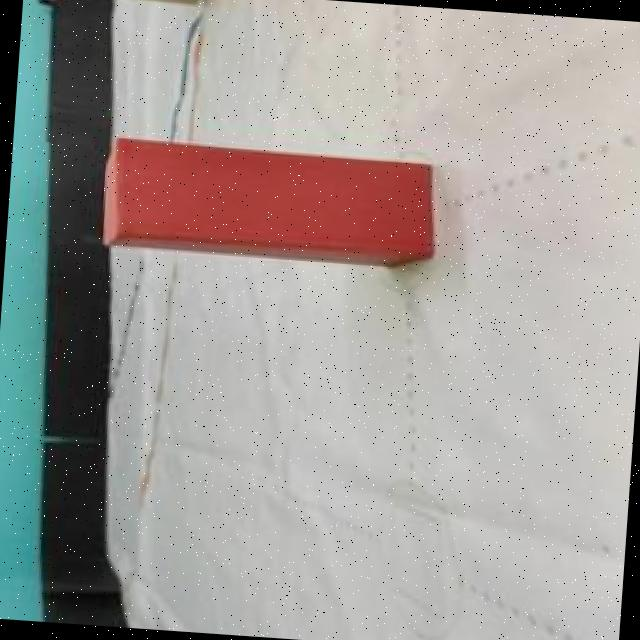redbox: (96, 134, 437, 272)
